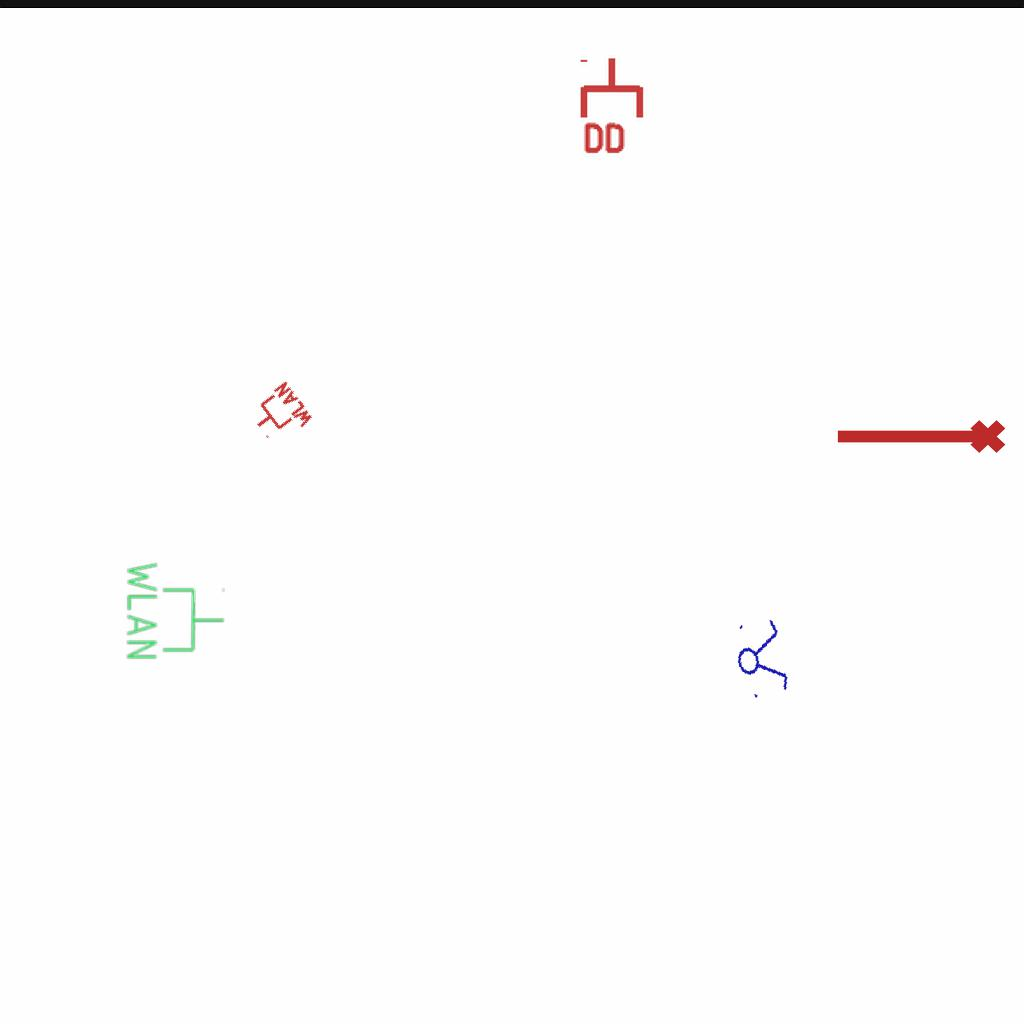ASR_Ansaugoeffnung: (832, 416, 1008, 462)
Datenanschluss_zweifach: (579, 55, 648, 158)
Serienschalter: (728, 611, 794, 705)
WLAN: (123, 558, 227, 663), (243, 378, 317, 452)
